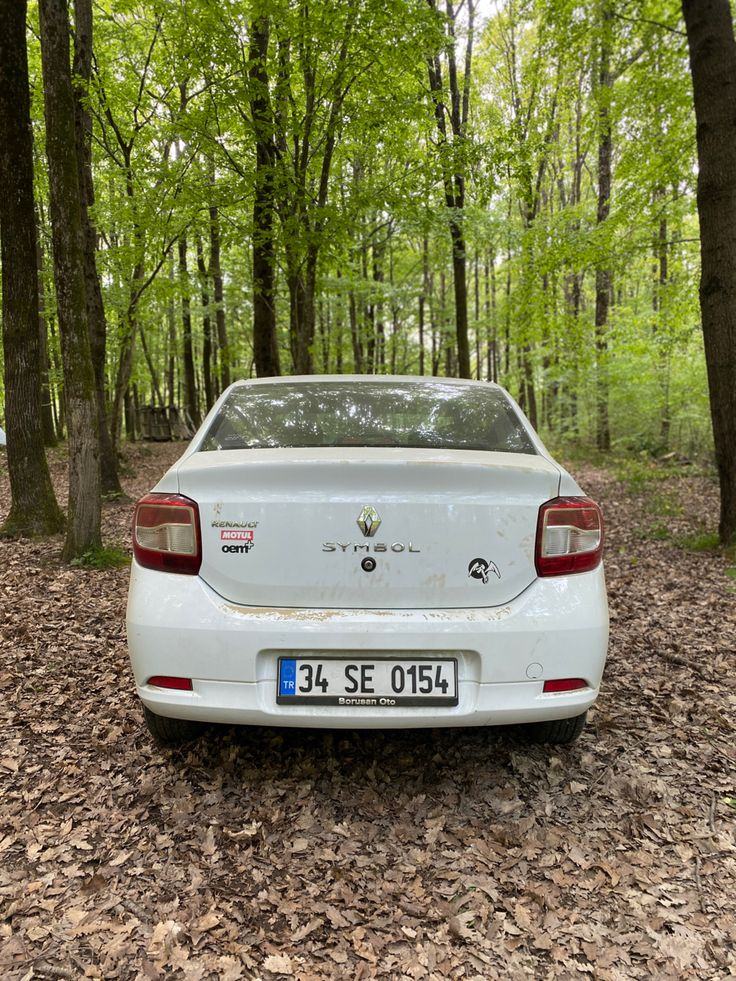plate: (279, 658, 462, 708)
